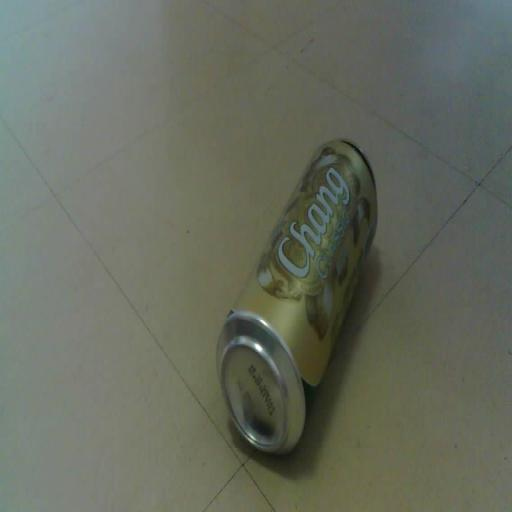canned: (206, 129, 382, 467)
